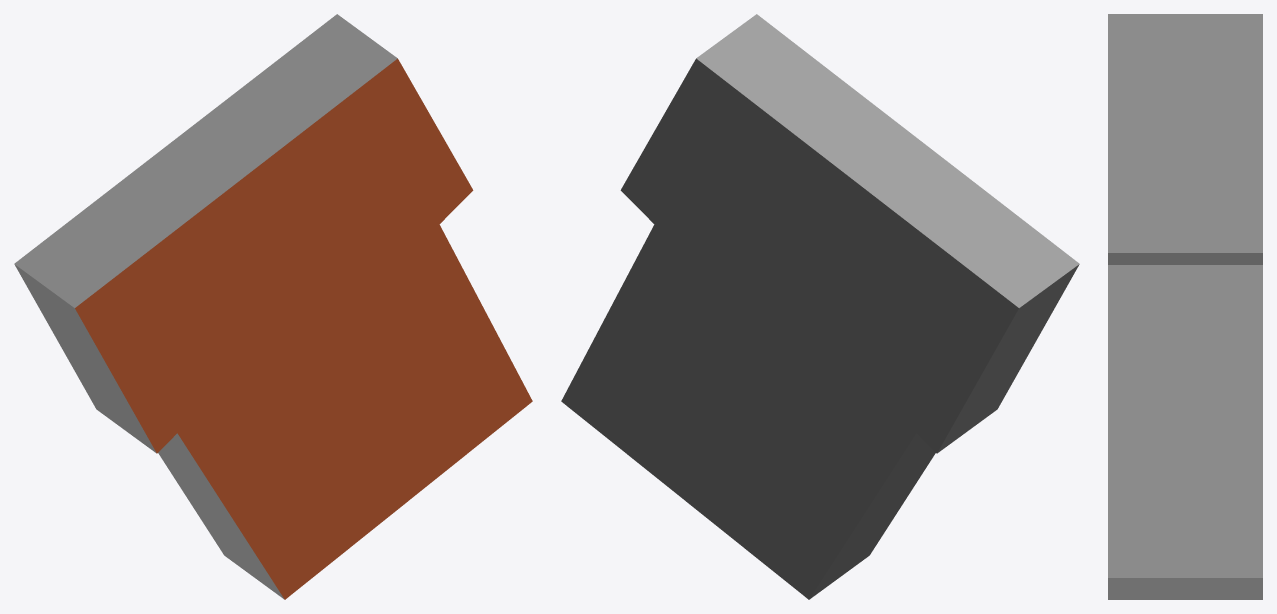
File: construction_5998_assumed_A_Casa_h6m.obj
The picture shows the model from 3 angles, left to right: view 1: azimuth 30°, elevation 25°; view 2: azimuth 150°, elevation 25°; view 3: azimuth 270°, elevation 25°; orthographic projection. The views are drawn at different scales.
Visible parts, largest first — view 1: construction_5998_assumed_A_Casa; view 2: construction_5998_assumed_A_Casa; view 3: construction_5998_assumed_A_Casa.
Part boxes in pixels (x1,y1,x2,y2): construction_5998_assumed_A_Casa: (14, 14, 532, 599); construction_5998_assumed_A_Casa: (561, 14, 1079, 599); construction_5998_assumed_A_Casa: (1108, 14, 1262, 599).
Bounding box in the file's own units: 26.15 × 28.04 × 6.
